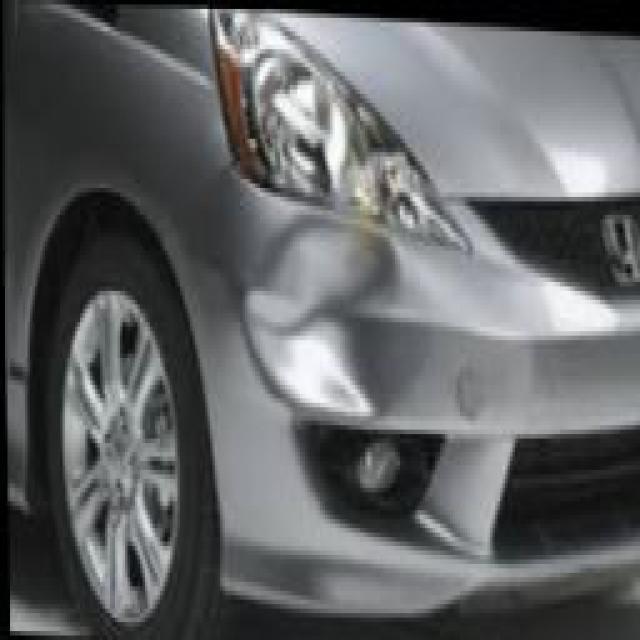rapairable: (249, 183, 441, 406)
